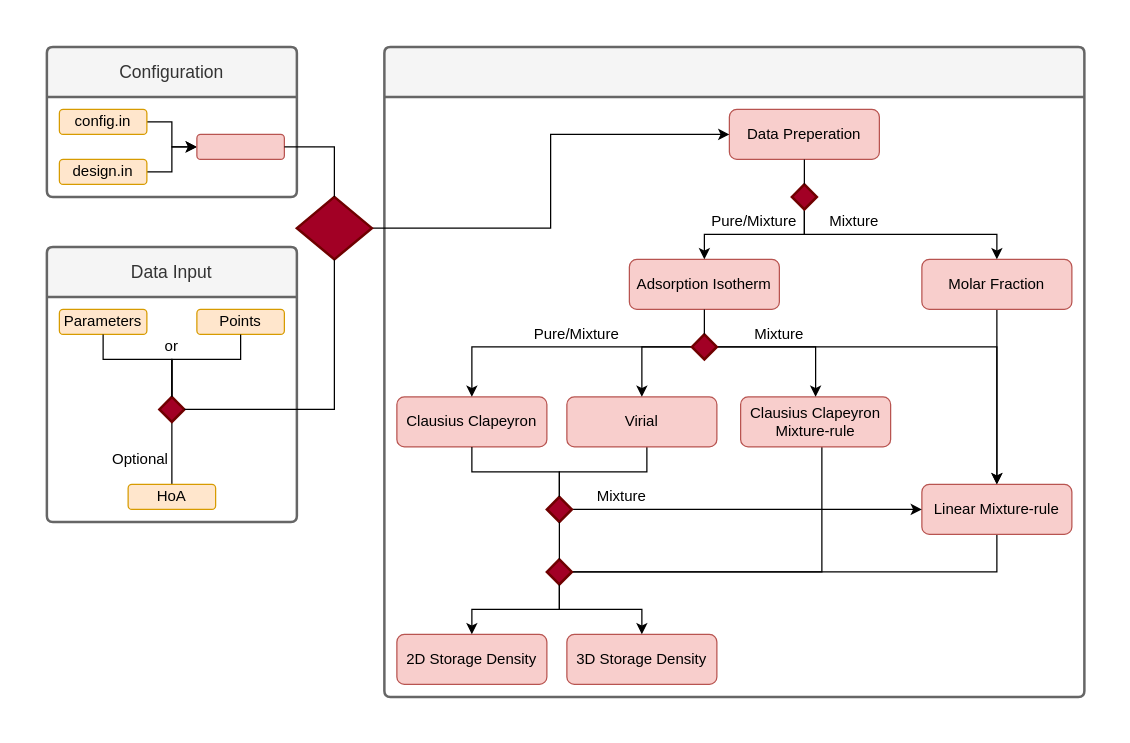
The diagram is 1130 pixels wide and 743 high, and some of its shapes have lost their labels. Each missing label, with the centre of its shape:
"Code" goes at (733,371).
"Input.py" goes at (240,146).
"run.py" goes at (333,227).
